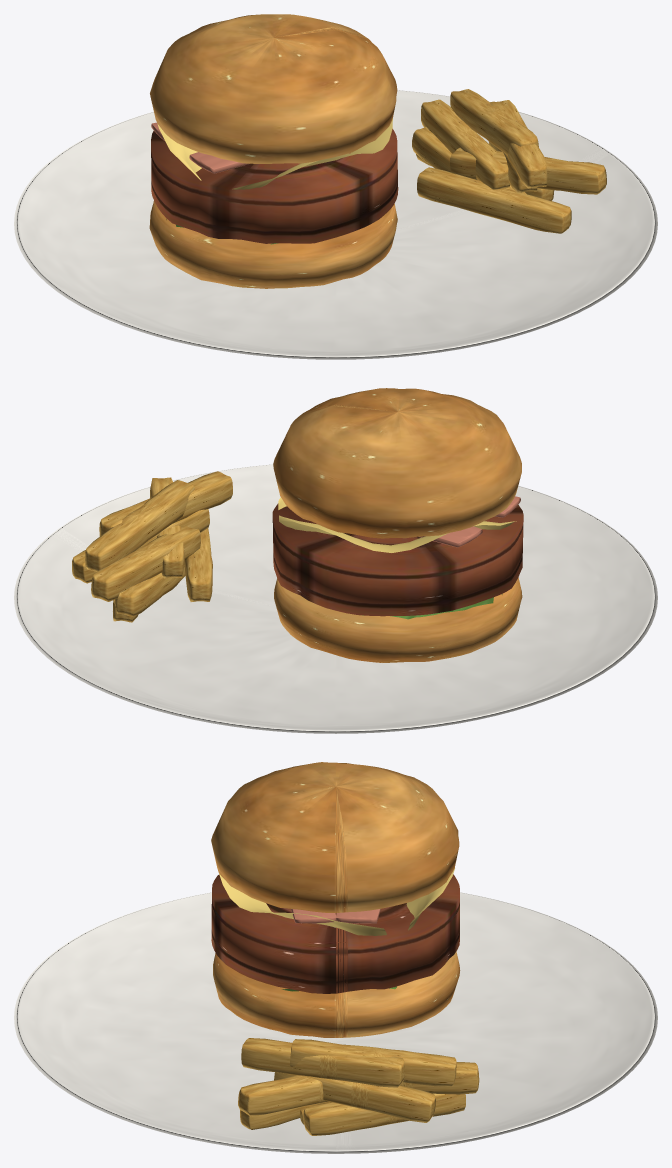
Rendered from hamburguesa-premium.glb.
3 renders of one model, top to bottom at view 1: azimuth 30°, elevation 25°; view 2: azimuth 150°, elevation 25°; view 3: azimuth 270°, elevation 25°, orthographic.
Size of the model in its own units: 0.27 by 0.115 by 0.27.
7 materials, 5 textured.
